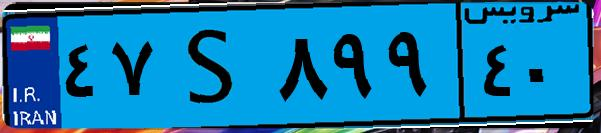0: (525, 38, 570, 115)
4: (57, 26, 110, 100), (475, 38, 525, 113)
7: (110, 28, 158, 98)
8: (270, 28, 330, 110)
9: (385, 28, 445, 110), (330, 28, 385, 110)
S: (158, 12, 270, 120)
